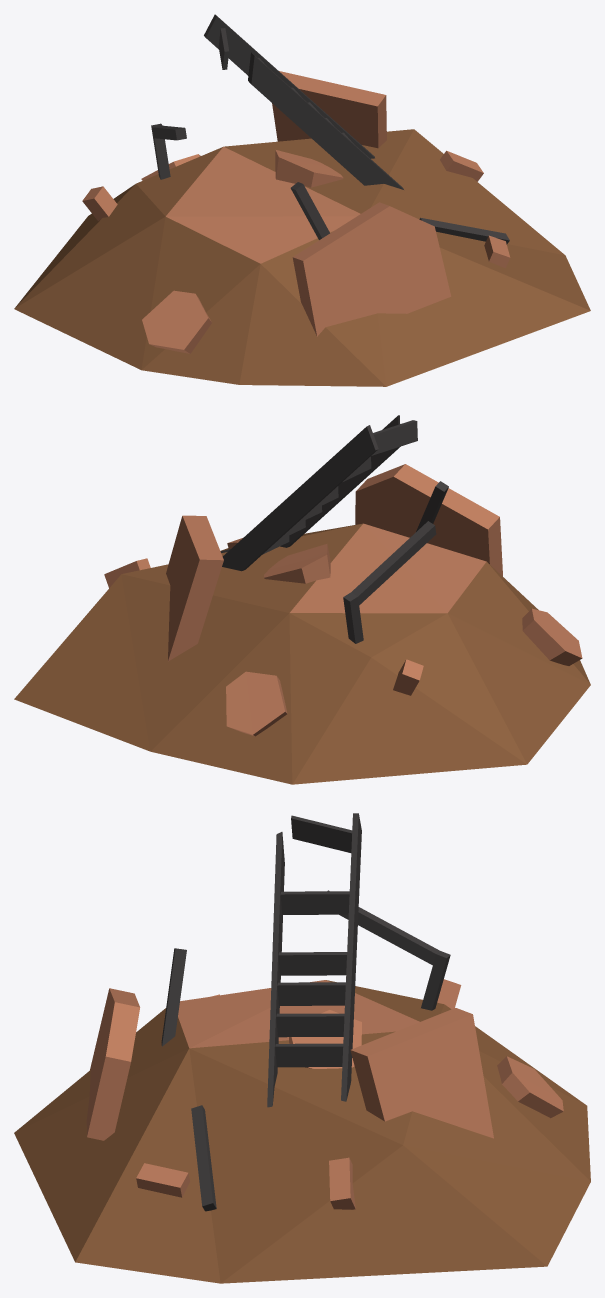
Rendered from apocalypse_rubble-apocalypse-d.fbx.
3 renders of one model, top to bottom at view 1: azimuth 30°, elevation 25°; view 2: azimuth 150°, elevation 25°; view 3: azimuth 270°, elevation 25°, orthographic. The views are drawn at different scales.
Visible parts, largest first — view 1: apocalypse_rubble_apocalypse_d; view 2: apocalypse_rubble_apocalypse_d; view 3: apocalypse_rubble_apocalypse_d.
Boxes of the visible parts, x1,y1,x2,y2 form: apocalypse_rubble_apocalypse_d: [14, 14, 590, 386]; apocalypse_rubble_apocalypse_d: [14, 415, 590, 784]; apocalypse_rubble_apocalypse_d: [14, 813, 590, 1283].
Bounding box in the file's own units: 200 × 109 × 186.
